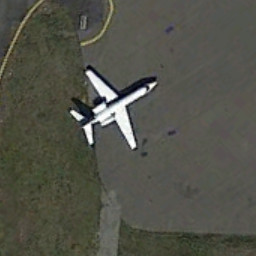Airplane: (53, 53, 161, 158)
